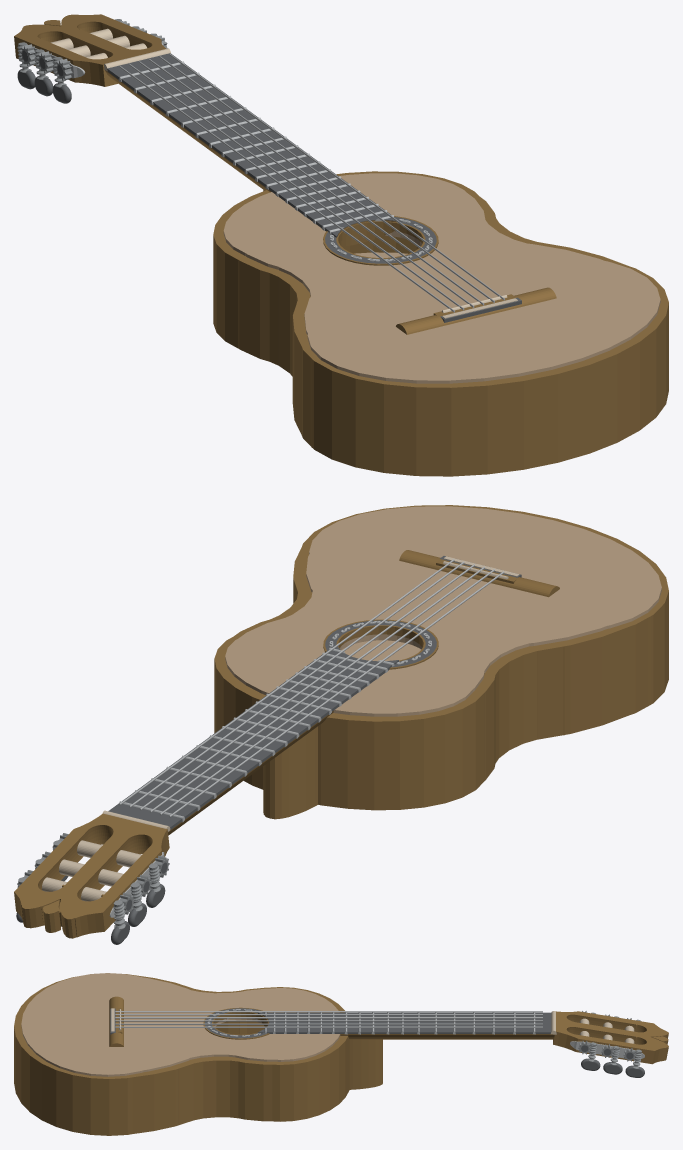
File: Copy of Guitar.glb
The picture shows the model from 3 angles, top to bottom: view 1: azimuth 30°, elevation 25°; view 2: azimuth 150°, elevation 25°; view 3: azimuth 270°, elevation 25°; orthographic projection. The views are drawn at different scales.
Visible parts, largest first — view 1: Mesh_Mesh_head_geo.001_lambert2SG.001; view 2: Mesh_Mesh_head_geo.001_lambert2SG.001; view 3: Mesh_Mesh_head_geo.001_lambert2SG.001.
Boxes of the visible parts, box(x1,y1,x2,y2) form: Mesh_Mesh_head_geo.001_lambert2SG.001: box(14, 14, 668, 476); Mesh_Mesh_head_geo.001_lambert2SG.001: box(14, 505, 668, 944); Mesh_Mesh_head_geo.001_lambert2SG.001: box(14, 973, 668, 1135).
Size of the model in its own units: 51 by 14.4 by 133.
